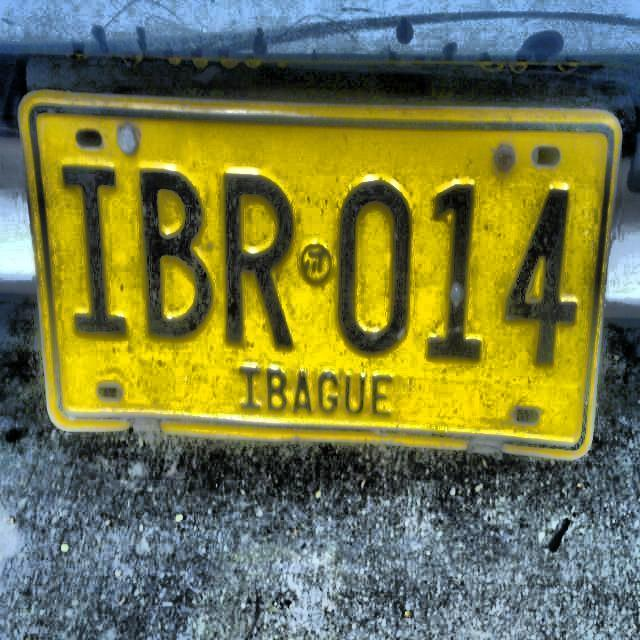plate: (26, 106, 612, 450)
